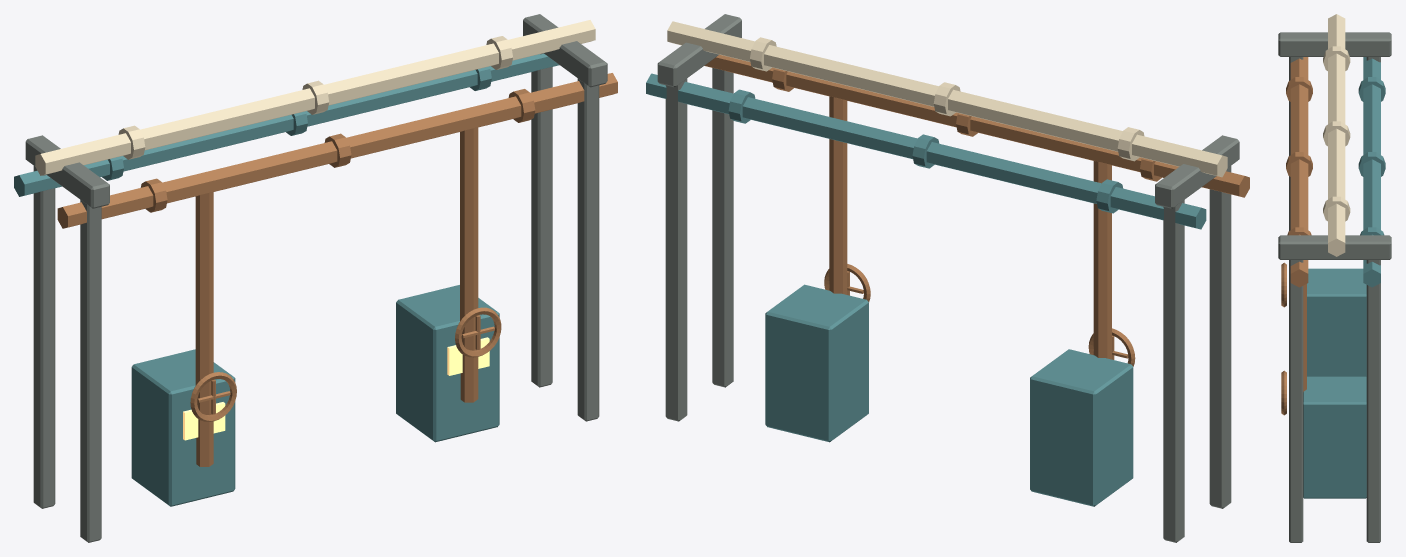
The model's file is hsinchu_pipe_gantry_v2.glb.
The picture shows the model from 3 angles, left to right: view 1: azimuth 30°, elevation 25°; view 2: azimuth 150°, elevation 25°; view 3: azimuth 270°, elevation 25°; orthographic projection. The views are drawn at different scales.
Visible parts, largest first — view 1: hsinchu_pipe_gantry_v2__hsinchu-machinery, hsinchu_pipe_gantry_v2__hsinchu-teal, hsinchu_pipe_gantry_v2__hsinchu-copper, hsinchu_pipe_gantry_v2__hsinchu-pale-trim, hsinchu_pipe_gantry_v2__warm-window; view 2: hsinchu_pipe_gantry_v2__hsinchu-teal, hsinchu_pipe_gantry_v2__hsinchu-machinery, hsinchu_pipe_gantry_v2__hsinchu-copper, hsinchu_pipe_gantry_v2__hsinchu-pale-trim; view 3: hsinchu_pipe_gantry_v2__hsinchu-teal, hsinchu_pipe_gantry_v2__hsinchu-machinery, hsinchu_pipe_gantry_v2__hsinchu-copper, hsinchu_pipe_gantry_v2__hsinchu-pale-trim.
Boxes of the visible parts, left/top/right/bottom form: hsinchu_pipe_gantry_v2__hsinchu-machinery: left=25, top=14, right=607, bottom=542; hsinchu_pipe_gantry_v2__hsinchu-teal: left=14, top=53, right=559, bottom=506; hsinchu_pipe_gantry_v2__hsinchu-copper: left=57, top=73, right=617, bottom=466; hsinchu_pipe_gantry_v2__hsinchu-pale-trim: left=35, top=20, right=595, bottom=175; hsinchu_pipe_gantry_v2__warm-window: left=183, top=337, right=489, bottom=440; hsinchu_pipe_gantry_v2__hsinchu-teal: left=646, top=73, right=1206, bottom=506; hsinchu_pipe_gantry_v2__hsinchu-machinery: left=657, top=14, right=1239, bottom=542; hsinchu_pipe_gantry_v2__hsinchu-copper: left=704, top=54, right=1249, bottom=366; hsinchu_pipe_gantry_v2__hsinchu-pale-trim: left=667, top=21, right=1227, bottom=177; hsinchu_pipe_gantry_v2__hsinchu-teal: left=1303, top=57, right=1385, bottom=498; hsinchu_pipe_gantry_v2__hsinchu-machinery: left=1278, top=32, right=1391, bottom=542; hsinchu_pipe_gantry_v2__hsinchu-copper: left=1281, top=57, right=1312, bottom=415; hsinchu_pipe_gantry_v2__hsinchu-pale-trim: left=1323, top=14, right=1350, bottom=256.
Bounding box in the file's own units: 60.04 × 39.32 × 12.81.
